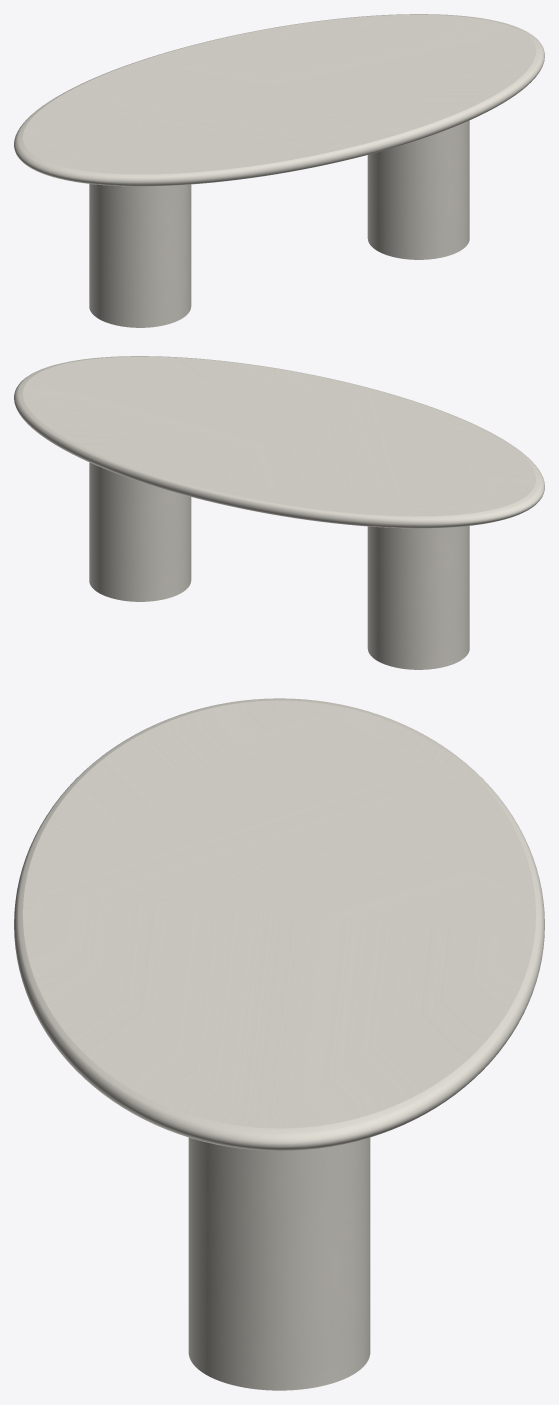
Rendered from pale_ellips_round_stream.glb.
The picture shows the model from 3 angles, top to bottom: view 1: azimuth 30°, elevation 25°; view 2: azimuth 150°, elevation 25°; view 3: azimuth 270°, elevation 25°; orthographic projection. The views are drawn at different scales.
Parts seen in each view (by area): view 1: round_ellips, stream; view 2: round_ellips, stream; view 3: round_ellips, stream.
Part boxes in pixels (x1=…): round_ellips: x1=14, y1=14, x2=544, y2=186; stream: x1=89, y1=120, x2=469, y2=327; round_ellips: x1=14, y1=356, x2=544, y2=528; stream: x1=89, y1=462, x2=469, y2=669; round_ellips: x1=14, y1=698, x2=544, y2=1150; stream: x1=188, y1=1137, x2=370, y2=1390.
Size of the model in its own units: 7.5 by 2.5 by 3.8.
1 material, 1 textured.
